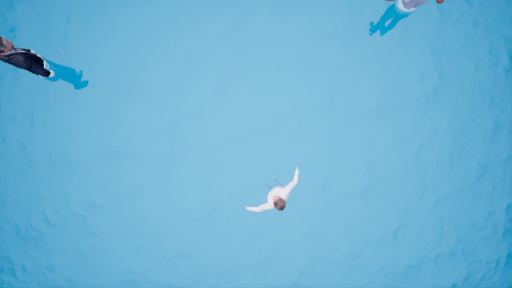person: (1, 27, 92, 95), (241, 157, 310, 222), (363, 1, 450, 38)
